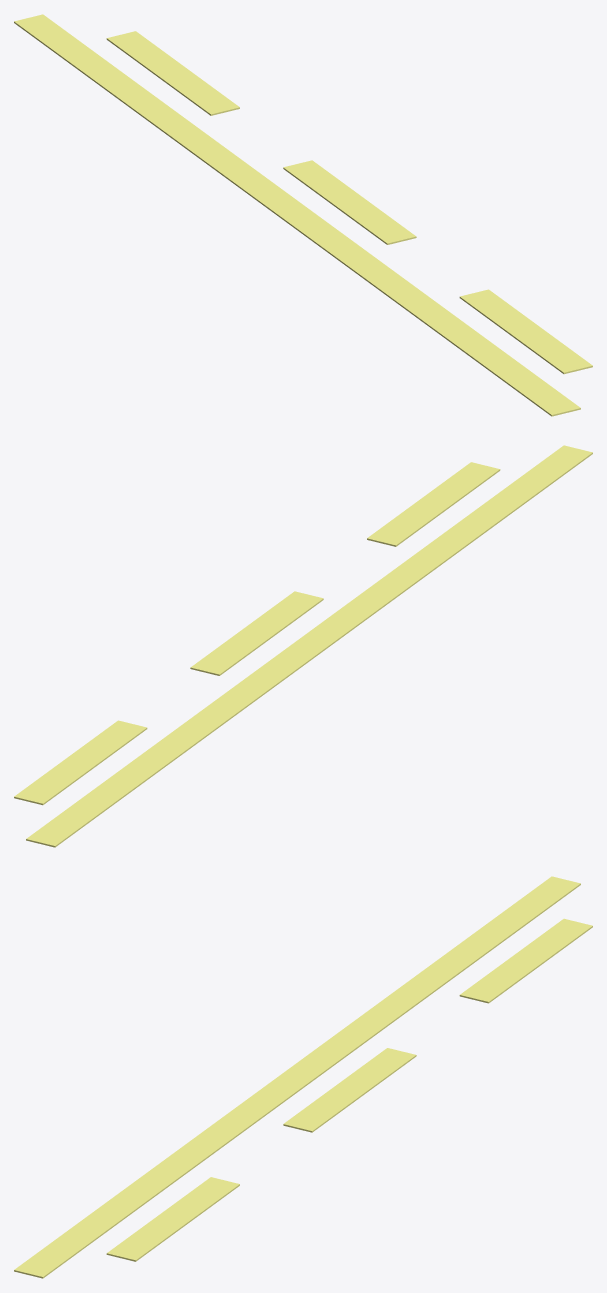
Rendered from marking_centerline_solid_dashed_yellow.glb.
3 renders of one model, top to bottom at view 1: azimuth 30°, elevation 25°; view 2: azimuth 150°, elevation 25°; view 3: azimuth 330°, elevation 25°, orthographic.
Visible parts, largest first — view 1: solid_line, dashed_segment_0, dashed_segment_1, dashed_segment_2; view 2: solid_line, dashed_segment_2, dashed_segment_1, dashed_segment_0; view 3: solid_line, dashed_segment_2, dashed_segment_1, dashed_segment_0.
Boxes of the visible parts, left/top/right/bottom form: solid_line: left=14, top=14, right=580, bottom=416; dashed_segment_0: left=106, top=31, right=239, bottom=115; dashed_segment_1: left=283, top=160, right=416, bottom=244; dashed_segment_2: left=459, top=289, right=592, bottom=374; solid_line: left=26, top=445, right=592, bottom=847; dashed_segment_2: left=367, top=462, right=500, bottom=546; dashed_segment_1: left=190, top=591, right=323, bottom=675; dashed_segment_0: left=14, top=720, right=147, bottom=805; solid_line: left=14, top=876, right=580, bottom=1278; dashed_segment_2: left=106, top=1177, right=239, bottom=1261; dashed_segment_1: left=283, top=1048, right=416, bottom=1132; dashed_segment_0: left=459, top=918, right=592, bottom=1003.
Bounding box in the file's own units: 0.28 × 0.005 × 3.2.
